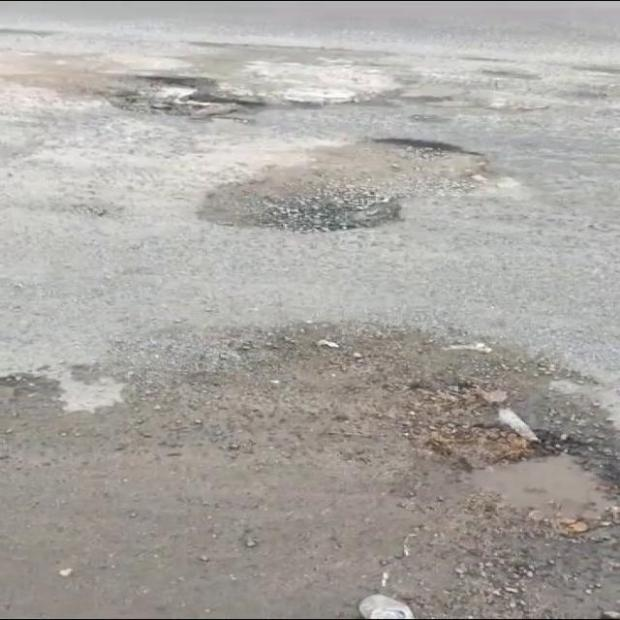lubang: (376, 381, 619, 534), (198, 139, 516, 231), (106, 76, 264, 119)
